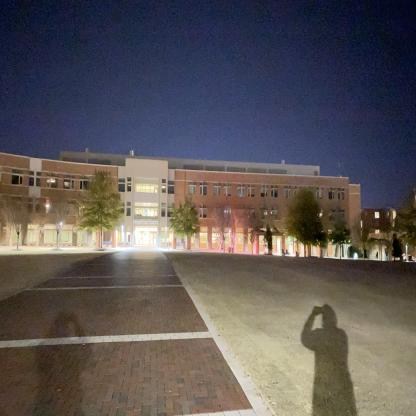eb3: (0, 141, 375, 262)
